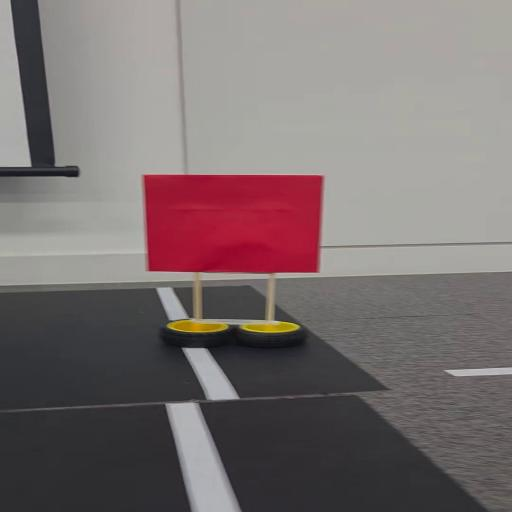Sign_A: (128, 168, 332, 351)
